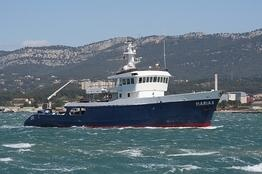yacht: (22, 38, 225, 128)
